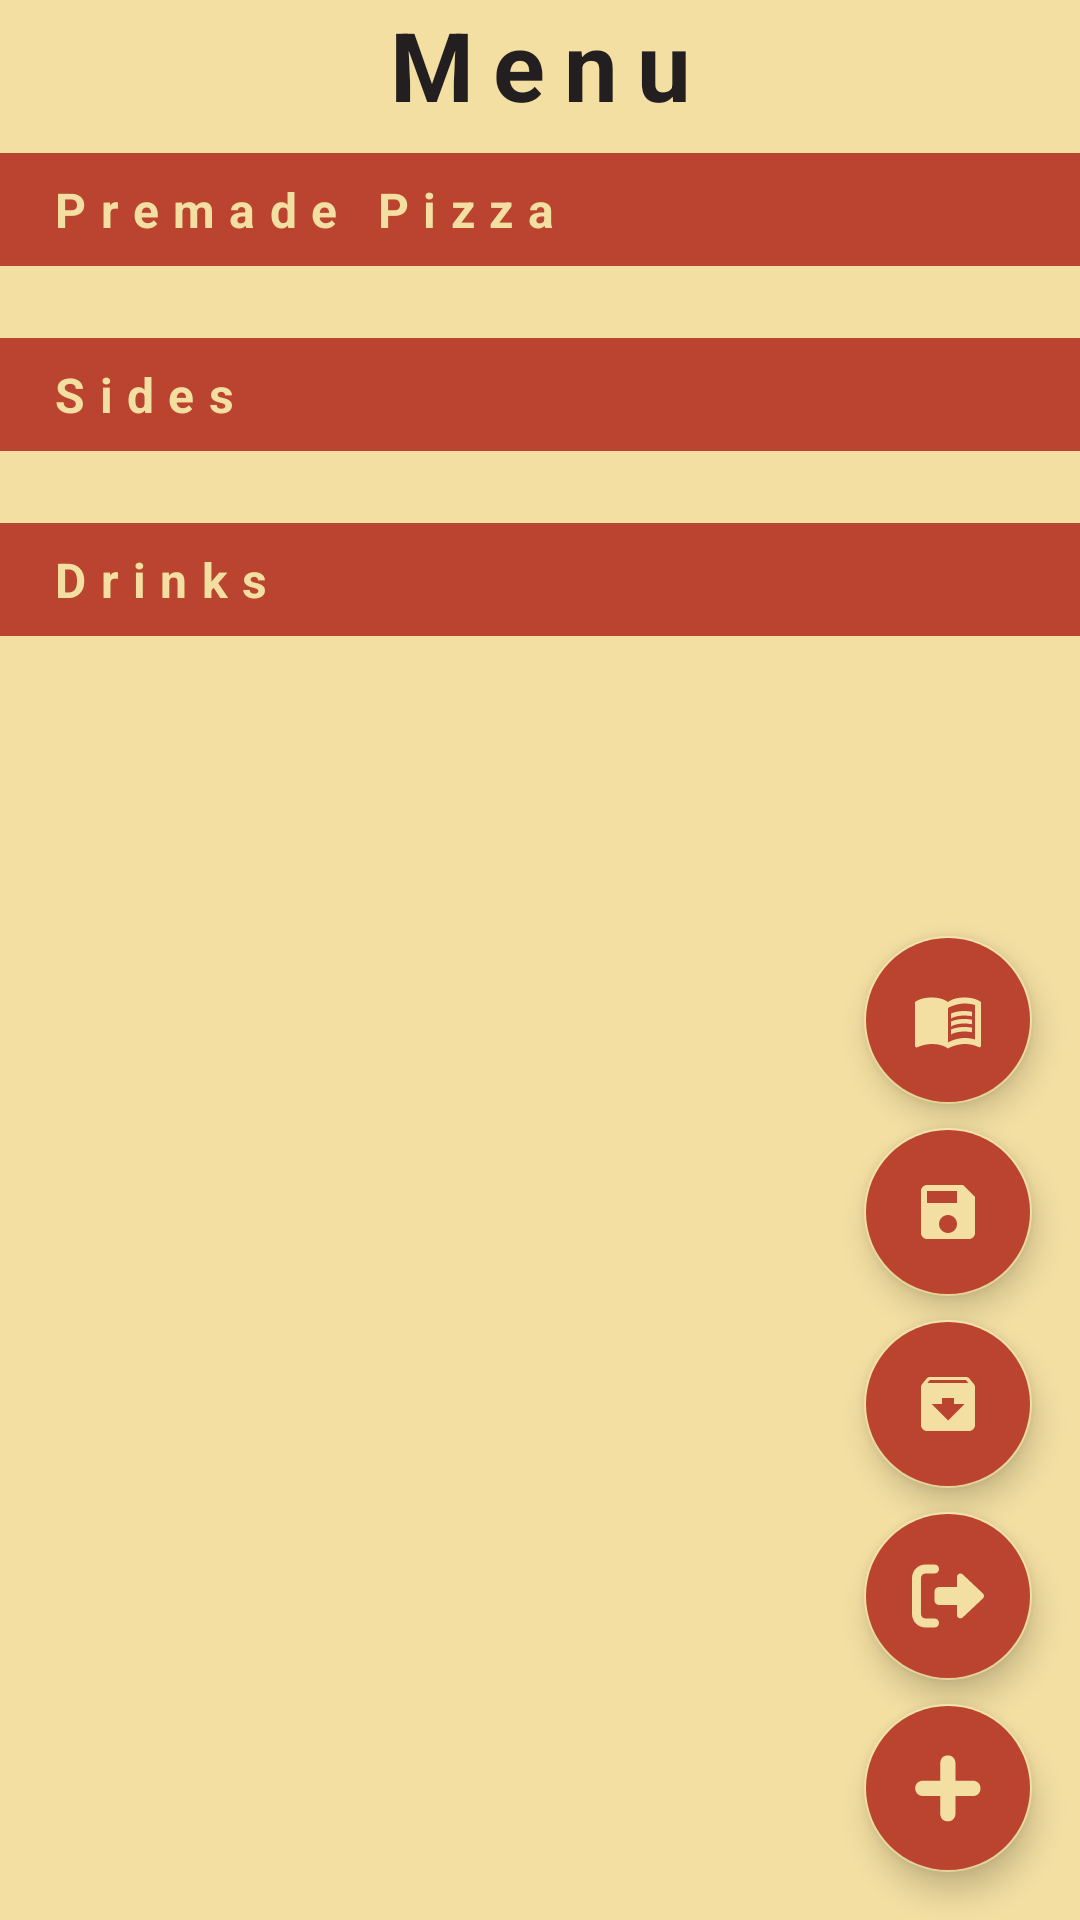

Icon bounding boxes for this 1080 × 1920 phone screenshot, format (x1, y1, x2, y2):
Go to Ordering Page: (866, 938, 1032, 1102)
History FAB: (866, 1322, 1030, 1486)
Save FAB: (866, 1130, 1032, 1294)
